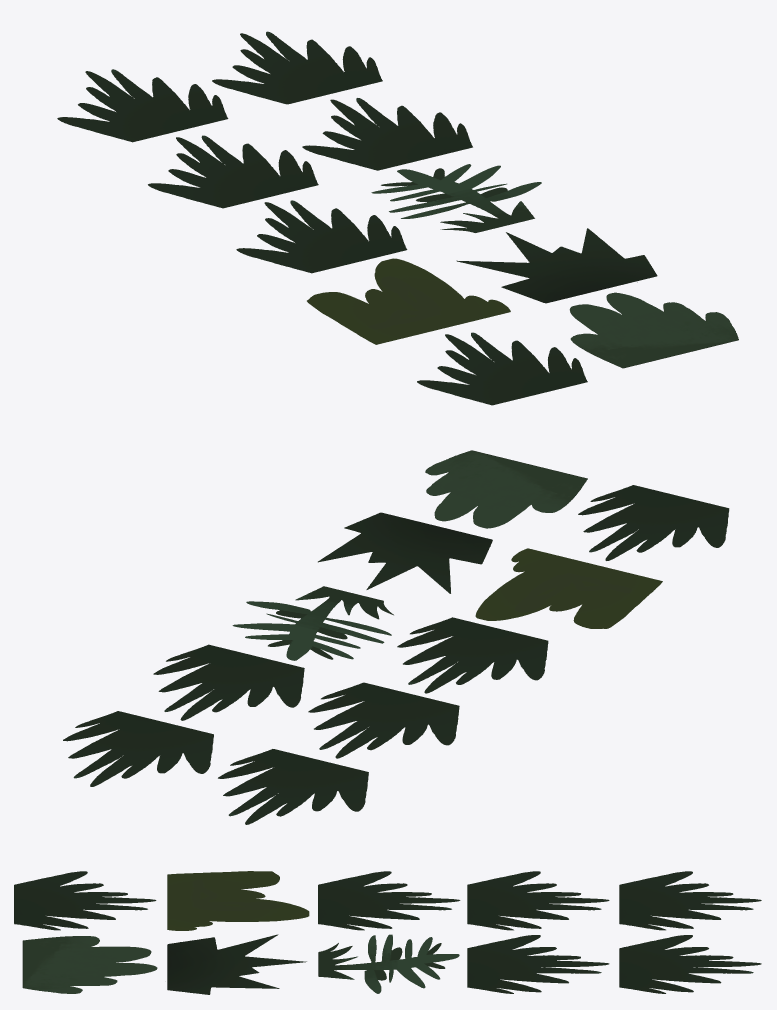
The model's file is planesBushes.fbx.
3 views of the same model, one above another, from view 1: azimuth 30°, elevation 25°; view 2: azimuth 150°, elevation 25°; view 3: azimuth 270°, elevation 25° (orthographic). The views are drawn at different scales.
Parts seen in each view (by area): view 1: Plane.001, Plane.002, Plane.003, Plane.009, Plane.008, Plane.007, Plane.000, Plane.005, Plane.006, Plane.004; view 2: Plane.001, Plane.002, Plane.003, Plane.009, Plane.007, Plane.006, Plane.008, Plane.005, Plane.000, Plane.004; view 3: Plane.001, Plane.002, Plane.003, Plane.007, Plane.006, Plane.008, Plane.009, Plane.005, Plane.000, Plane.004.
Part boxes in pixels (box(x1,y1,x2,y2)): Plane.001: box(307, 258, 510, 344); Plane.002: box(569, 292, 738, 368); Plane.003: box(456, 228, 657, 303); Plane.009: box(148, 135, 318, 208); Plane.008: box(302, 98, 472, 170); Plane.007: box(212, 31, 382, 104); Plane.000: box(417, 332, 587, 405); Plane.005: box(236, 200, 407, 273); Plane.006: box(57, 69, 228, 142); Plane.004: box(371, 164, 541, 232); Plane.001: box(475, 548, 662, 628); Plane.002: box(425, 450, 587, 528); Plane.003: box(318, 512, 492, 593); Plane.009: box(308, 682, 459, 758); Plane.007: box(63, 711, 213, 786); Plane.006: box(218, 749, 368, 824); Plane.008: box(153, 644, 304, 720); Plane.005: box(397, 617, 548, 693); Plane.000: box(578, 485, 729, 560); Plane.004: box(232, 586, 393, 660); Plane.001: box(167, 871, 309, 930); Plane.002: box(22, 936, 157, 993); Plane.003: box(167, 934, 306, 994); Plane.007: box(619, 935, 761, 993); Plane.006: box(619, 871, 761, 930); Plane.008: box(467, 935, 609, 993); Plane.009: box(467, 871, 609, 930); Plane.005: box(318, 871, 460, 930); Plane.000: box(14, 871, 156, 930); Plane.004: box(318, 934, 459, 993).
Size of the model in its own units: 412 by 0.1991 by 1043.
